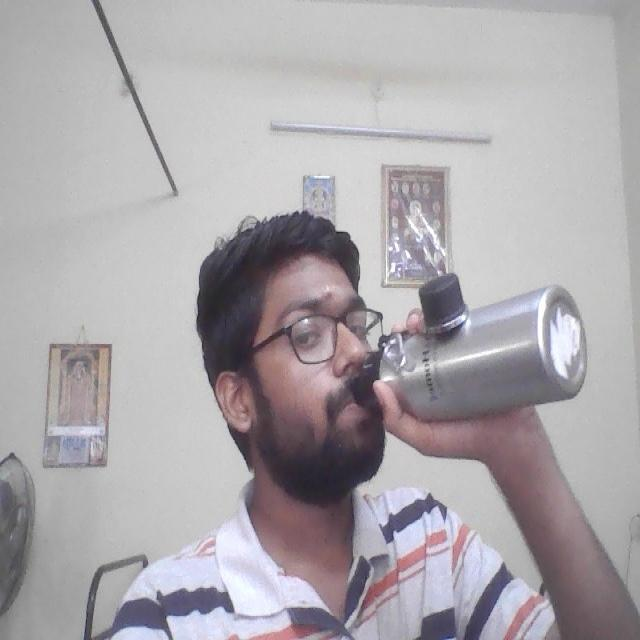Drinking: (351, 272, 599, 425)
